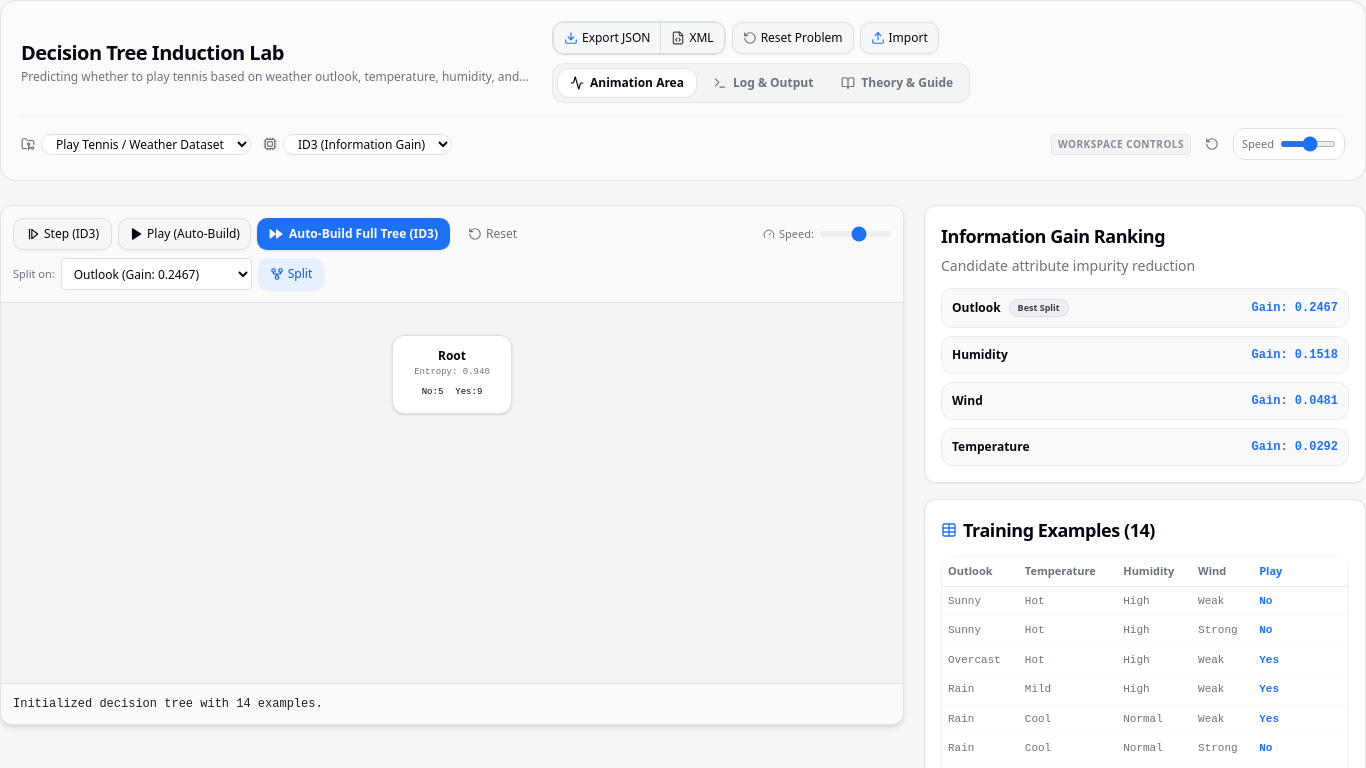
Test: P1-1 Decision Trees & Neural Networks Algorithmic & UX Fixes › 1. Decision Trees Algorithm Math & Metrics › switches algorithm in DTreeTool and updates ranking metric title and values
Expected: the heading "Information Gain Ranking" is shown, [941, 224, 1165, 248]
Note: Switch to C4.5
Select "C4.5 (Gain Ratio)" in the dropdown named "Select Algorithm" at [368, 144], box [283, 134, 452, 154]
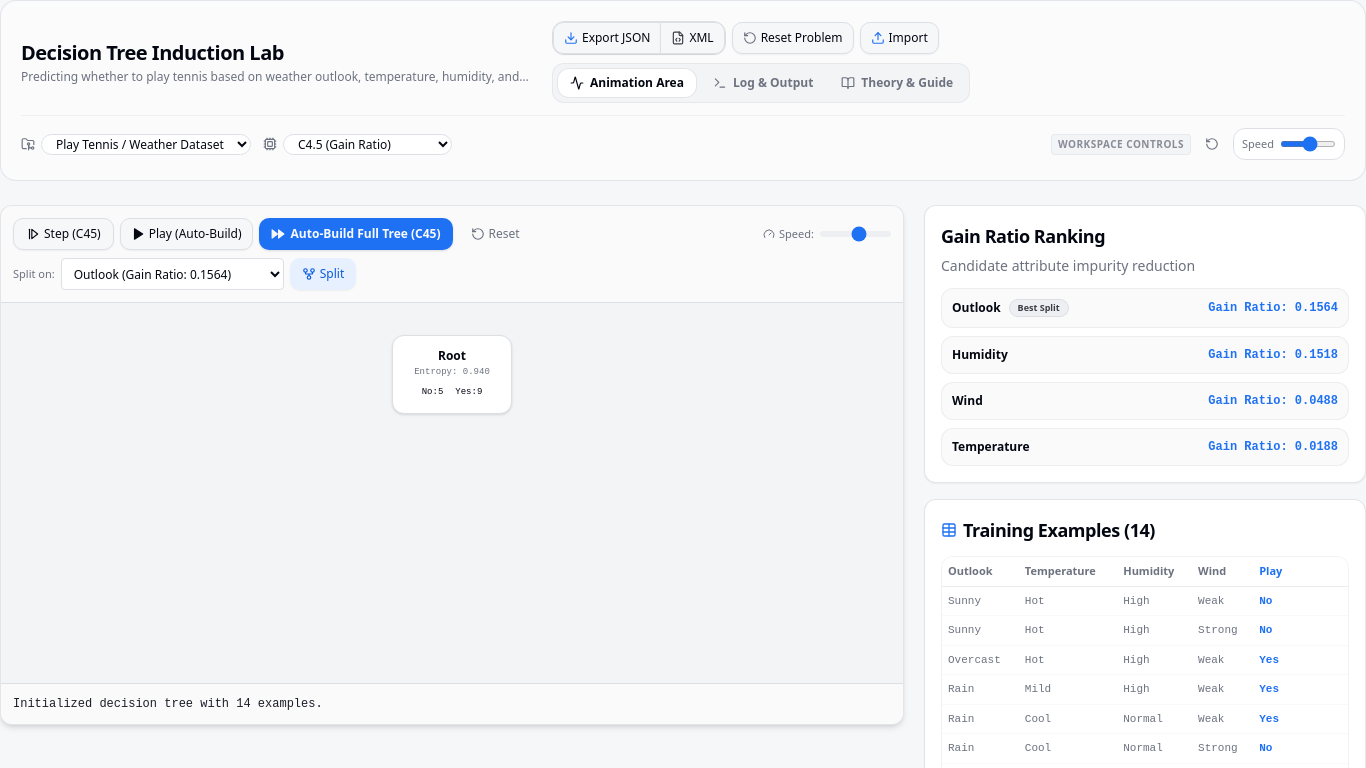
Expected: the heading "Gain Ratio Ranking" is shown, [941, 224, 1105, 248]
Note: Switch to CART
Select "CART (Gini Impurity)" in the dropdown named "Select Algorithm" at [368, 144], box [283, 134, 452, 154]
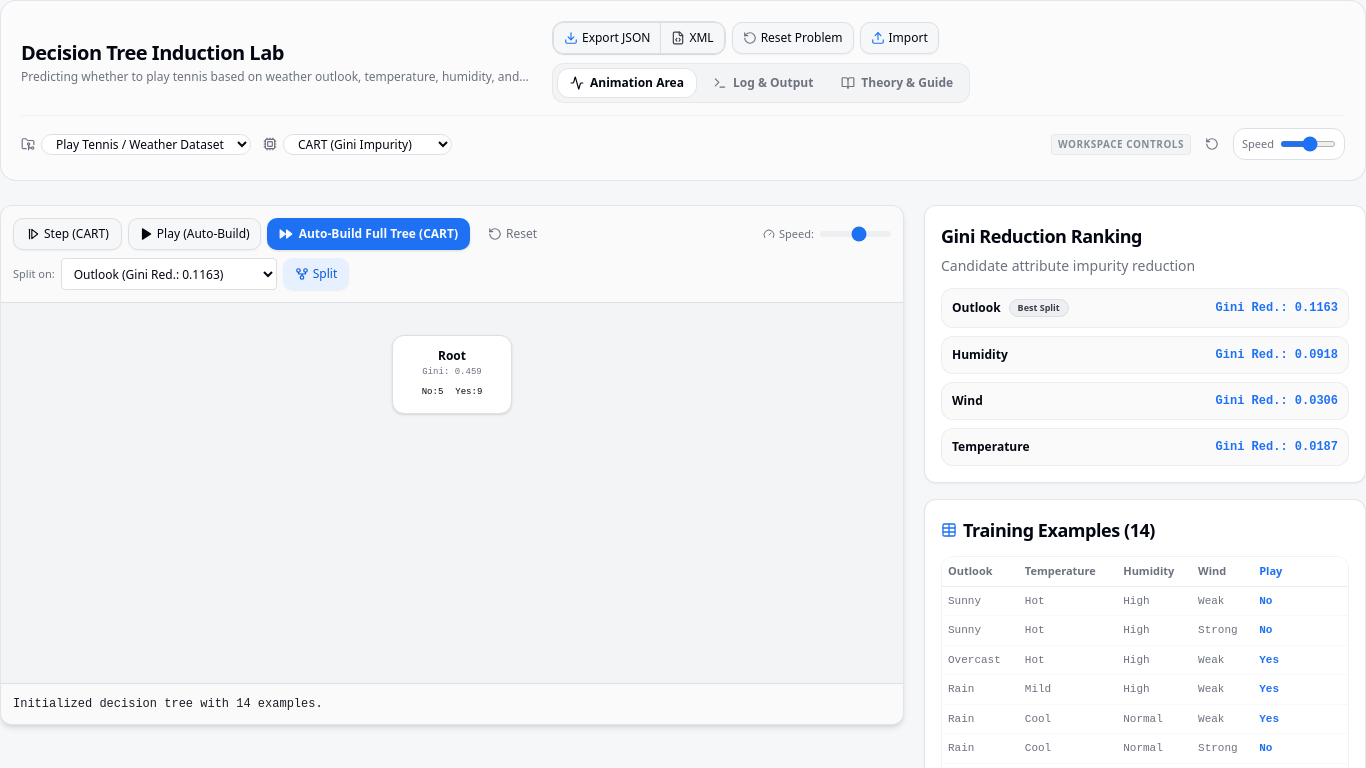
Expected: the heading "Gini Reduction Ranking" is shown, [941, 224, 1142, 248]
